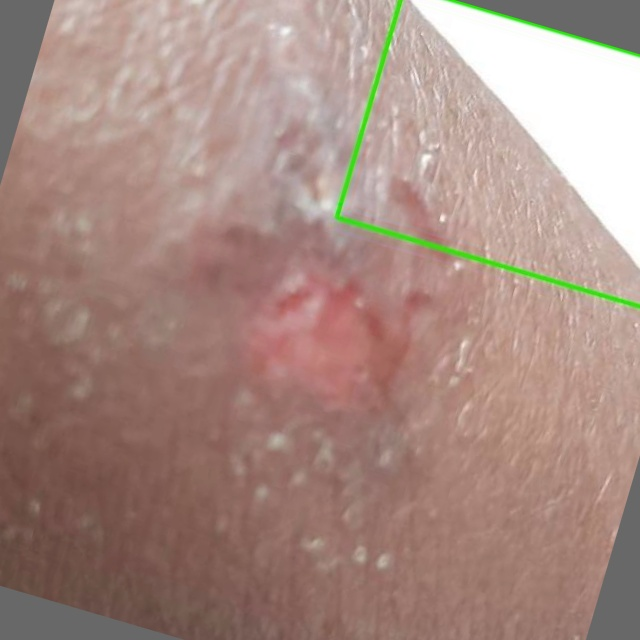Eczema: (337, 0, 639, 306)
